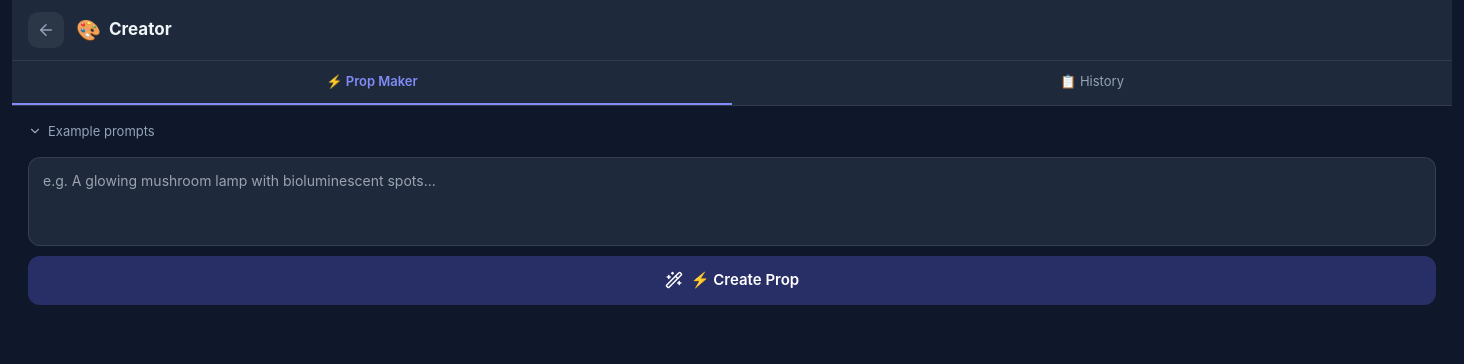
MobileCreatorView › fills input when example prompt is clicked
Click the button "Example prompts": (91, 131) x1=28 y1=122 x2=155 y2=141
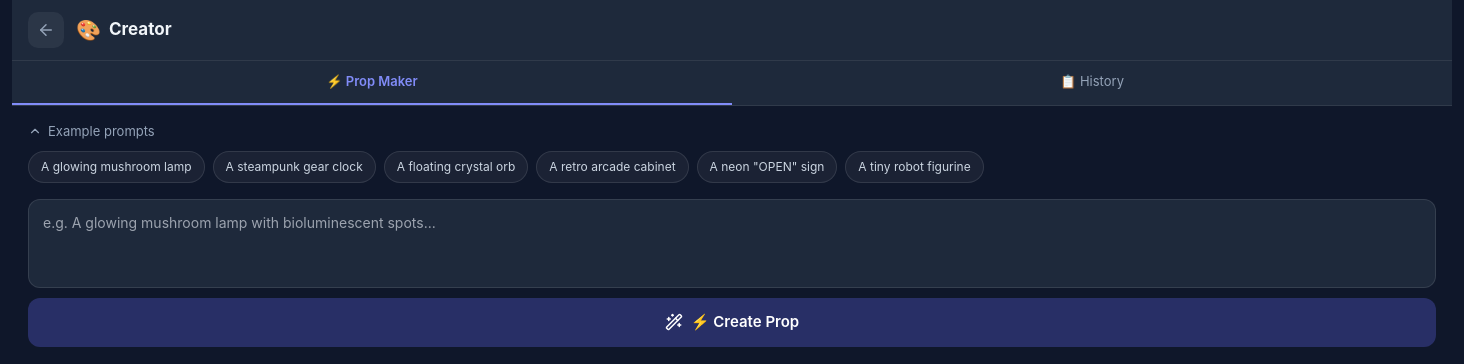
Click the button "A glowing mushroom lamp": (116, 167) x1=28 y1=151 x2=205 y2=183
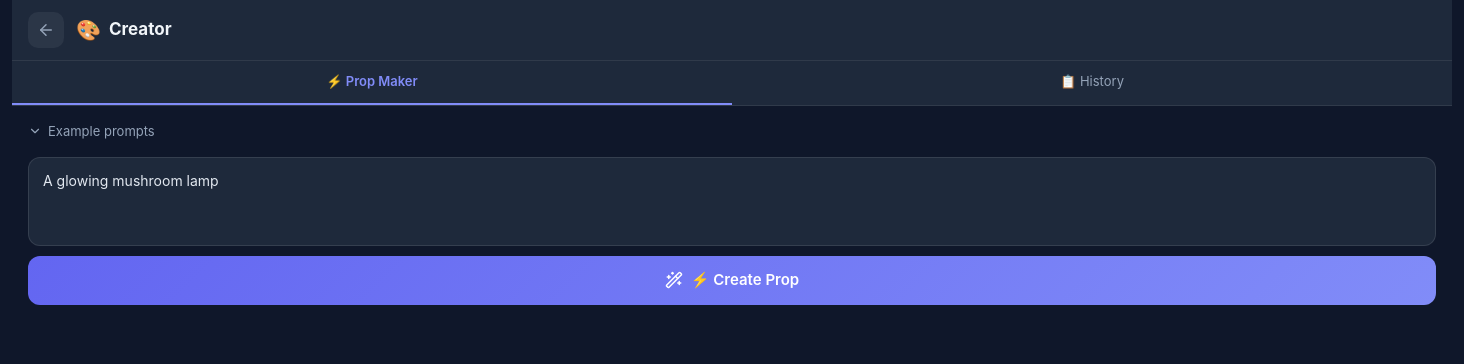
Check: the text box with placeholder "e.g. A glowing mushroom lamp with bioluminescent spots..." holds "A glowing mushroom lamp", box x1=28 y1=157 x2=1436 y2=246
